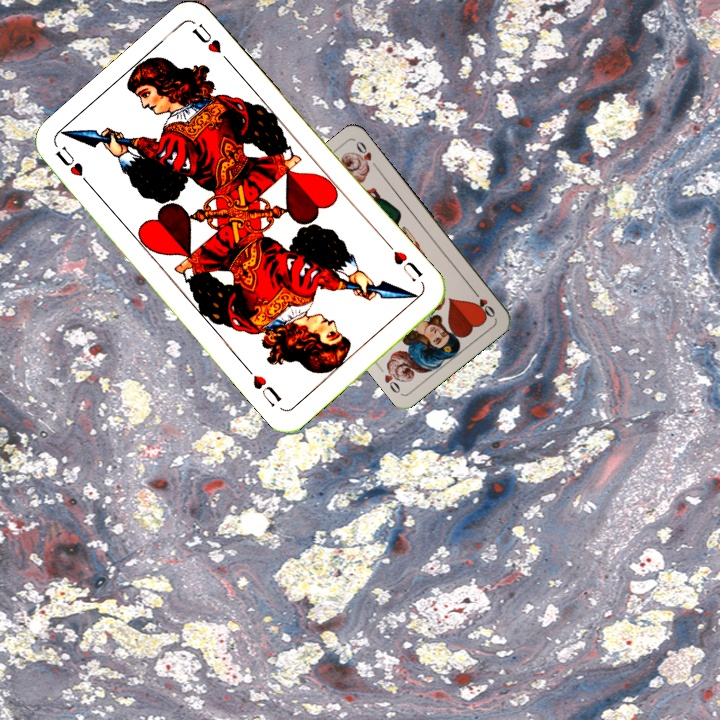HO: (468, 285, 498, 320)
HU: (51, 142, 96, 191), (389, 246, 425, 284)
